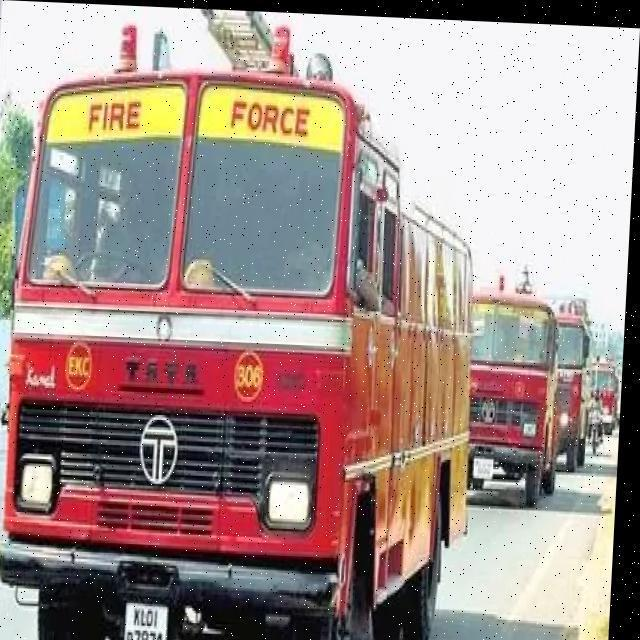Ambulance: (0, 6, 496, 640), (0, 393, 622, 640), (394, 409, 621, 640), (464, 260, 570, 503)
